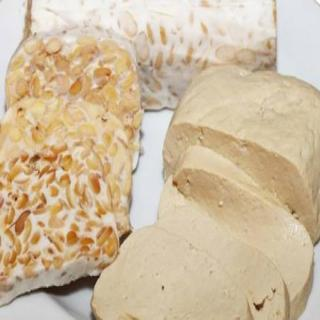Tempe: (1, 1, 280, 308), (24, 1, 278, 112)
